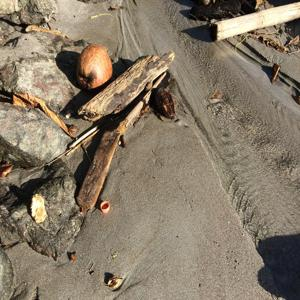plastic: (92, 201, 113, 214)
